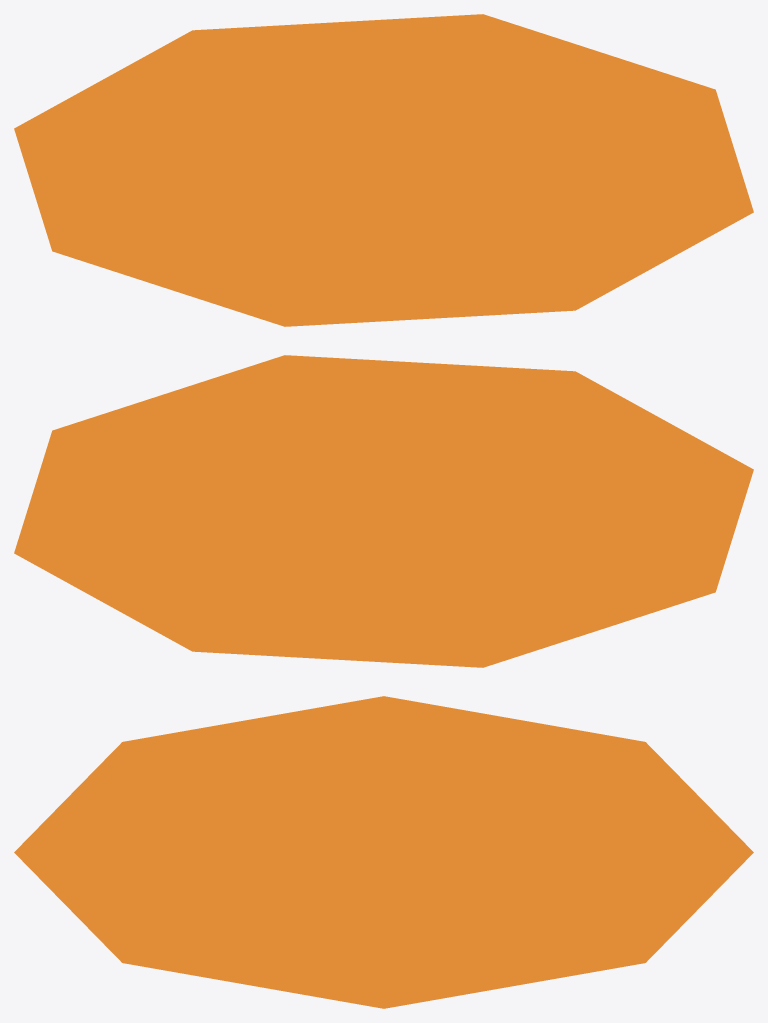
Rendered from marble-center-low-col.glb.
The picture shows the model from 3 angles, top to bottom: view 1: azimuth 30°, elevation 25°; view 2: azimuth 150°, elevation 25°; view 3: azimuth 270°, elevation 25°; orthographic projection. The views are drawn at different scales.
Visible parts, largest first — view 1: marble-center-low-col; view 2: marble-center-low-col; view 3: marble-center-low-col.
Part boxes in pixels (bbox=[...]): marble-center-low-col: bbox=[14, 14, 753, 326]; marble-center-low-col: bbox=[14, 355, 753, 667]; marble-center-low-col: bbox=[14, 696, 753, 1008].
Size of the model in its own units: 0.3804 by 2.26e-17 by 0.3804.
Materials: 1 (1 with a texture image).
